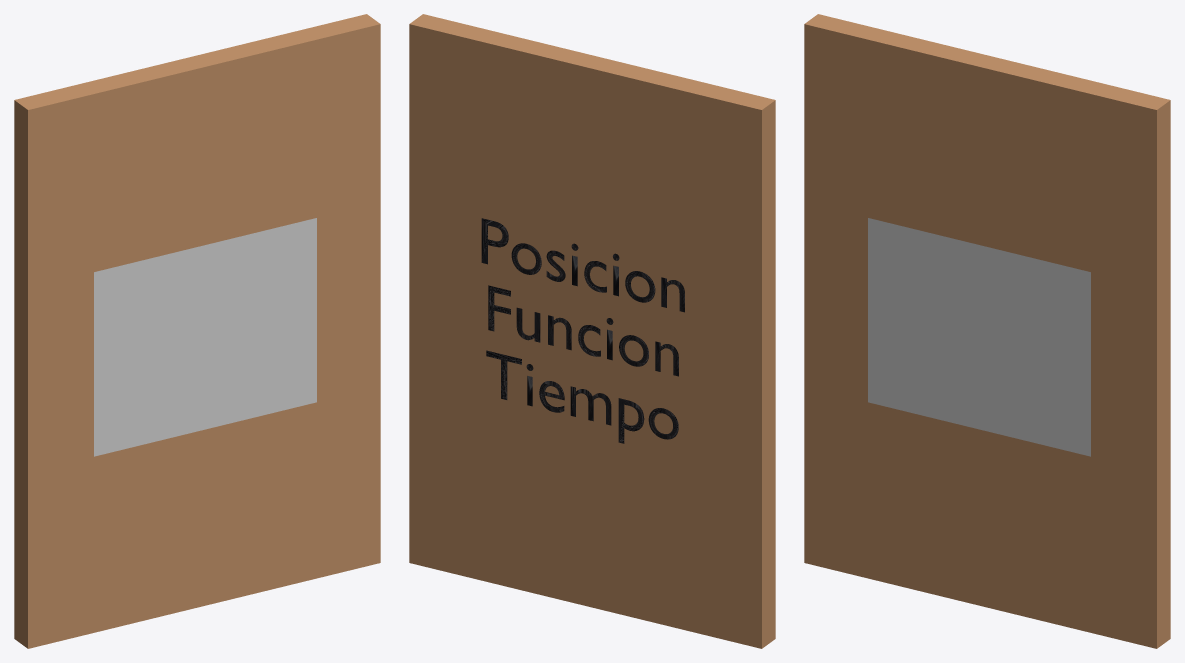
The model's file is CARTA10A.obj.
3 views of the same model, side by side, from view 1: azimuth 30°, elevation 25°; view 2: azimuth 150°, elevation 25°; view 3: azimuth 330°, elevation 25° (orthographic).
Parts seen in each view (by area): view 1: Cube; view 2: Cube; view 3: Cube.
Boxes of the visible parts, x1,y1,x2,y2 form: Cube: (14, 14, 380, 648); Cube: (409, 14, 775, 648); Cube: (804, 14, 1170, 648).
Size of the model in its own units: 2 by 2.92 by 0.1639.
3 materials, 2 textured.
